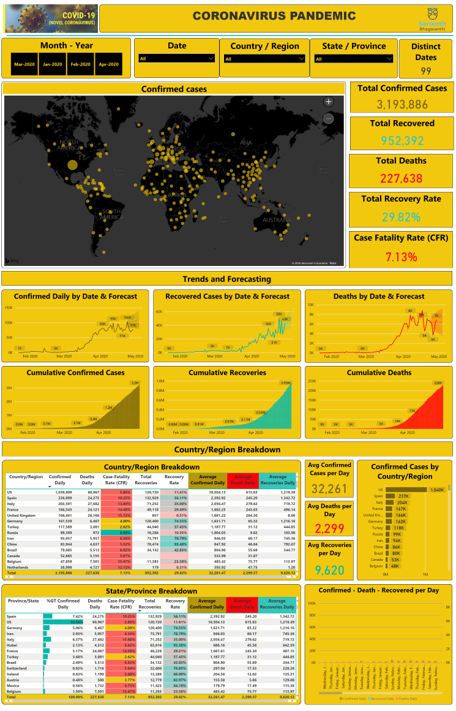

Layout of this report page (visuals, bound fields, positions):
{"tool":"powerbi","page":{"name":"COVID-19","canvas":[1490,2310],"ordinal":0},"visuals":[{"type":"basicShape","box":[6.6,34.5,1489.8,154.4],"z":0},{"type":"image","box":[0,0,321.9,111.7],"z":1000},{"type":"image","box":[1348.5,0,151.1,111.7],"z":2000},{"type":"textbox","box":[321.9,9.8,1162.9,92],"z":3000},{"type":"image","box":[1348.5,0,136.3,111.7],"z":4000},{"type":"slicer","title":"Month - Year","fields":{"Values":["CoronaVirus PowerBI Raw.Month-Year"]},"box":[0,119.3,425.9,133.2],"z":5000},{"type":"slicer","title":"Date","fields":{"Values":["CoronaVirus PowerBI Raw.Date"]},"box":[435.9,119.9,280.9,131.4],"z":6000},{"type":"slicer","title":"Country / Region","fields":{"Values":["CoronaVirus PowerBI Raw.Country/Region"]},"box":[716.8,121.5,297.3,128.1],"z":7000},{"type":"slicer","title":"State / Province","fields":{"Values":["CoronaVirus PowerBI Raw.Province/State"]},"box":[1014.1,121.5,289.1,129.8],"z":8000},{"type":"card","title":"Distinct Dates","fields":{"Values":["Count(CoronaVirus PowerBI Raw.Date)"]},"box":[1307.5,123.2,175.8,129.8],"z":9000},{"type":"map","title":"Confirmed cases","fields":{"Y":["CoronaVirus PowerBI Raw.Lat"],"X":["CoronaVirus PowerBI Raw.Long"],"Size":["Sum(CoronaVirus PowerBI Raw.Confirmed Daily)"]},"box":[0,262.8,1133.4,612.7],"z":10000},{"type":"card","title":"Total Confirmed Cases","fields":{"Values":["Sum(CoronaVirus PowerBI Raw.Confirmed Daily)"]},"box":[1146.5,262.8,341.6,101.8],"z":11000},{"type":"card","title":"Total Recovered","fields":{"Values":["Sum(CoronaVirus PowerBI Raw.Recovered Daily)"]},"box":[1146.5,377.8,341.6,110],"z":12000},{"type":"card","title":"Total Deaths","fields":{"Values":["Sum(CoronaVirus PowerBI Raw.Deaths Daily)"]},"box":[1143.2,501,341.6,111.7],"z":13000},{"type":"card","title":"Case Fatality Rate (CFR)","fields":{"Values":["CoronaVirus PowerBI Raw.CFR"]},"box":[1143.2,753.9,341.6,121.5],"z":14000},{"type":"card","title":"Total Recovery Rate","fields":{"Values":["CoronaVirus PowerBI Raw.Recovery Rate"]},"box":[1143.2,625.8,341.6,116.6],"z":15000},{"type":"textbox","box":[0,885.3,1483.2,47.6],"z":16000},{"type":"lineChart","title":"Confirmed Daily by Date & Forecast","fields":{"Category":["CoronaVirus PowerBI Raw.Date"],"Y":["Sum(CoronaVirus PowerBI Raw.Confirmed Daily)"]},"box":[0,946.2,485,239],"z":17000},{"type":"lineChart","title":"Recovered Cases by Date & Forecast","fields":{"Category":["CoronaVirus PowerBI Raw.Date"],"Y":["Sum(CoronaVirus PowerBI Raw.Recovered Daily)"]},"box":[499.4,946.2,485.6,238.6],"z":18000},{"type":"lineChart","title":"Deaths by Date & Forecast","fields":{"Category":["CoronaVirus PowerBI Raw.Date"],"Y":["Sum(CoronaVirus PowerBI Raw.Deaths Daily)"]},"box":[997.5,946.2,485.6,240],"z":19000},{"type":"columnChart","title":"Cumulative Confirmed Cases","fields":{"Y":["Sum(CoronaVirus PowerBI Raw.Confirmed)"],"Category":["CoronaVirus PowerBI Raw.Date"]},"box":[0,1197.3,485.6,238.6],"z":20000},{"type":"columnChart","title":"Cumulative Recoveries","fields":{"Category":["CoronaVirus PowerBI Raw.Date"],"Y":["Sum(CoronaVirus PowerBI Raw.Recovered)"]},"box":[499.4,1197.3,485.6,238.6],"z":21000},{"type":"columnChart","title":"Cumulative Deaths","fields":{"Category":["CoronaVirus PowerBI Raw.Date"],"Y":["Sum(CoronaVirus PowerBI Raw.Deaths)"]},"box":[998.9,1197.3,485.6,238.6],"z":22000},{"type":"textbox","box":[1.4,1445.6,1483.1,48.5],"z":23000},{"type":"tableEx","title":"Country/Region Breakdown","fields":{"Values":["CoronaVirus PowerBI Raw.Country/Region","Sum(CoronaVirus PowerBI Raw.Confirmed Daily)","Sum(CoronaVirus PowerBI Raw.Deaths Daily)","CoronaVirus PowerBI Raw.CFR","Sum(CoronaVirus PowerBI Raw.Recovered Daily)","CoronaVirus PowerBI Raw.Recovery Rate","CoronaVirus PowerBI Raw.Average Confirmed Daily","CoronaVirus PowerBI Raw.Average Death Daily","CoronaVirus PowerBI Raw.Average Recoveries Daily"]},"box":[1.6,1506.2,983.9,395.9],"z":24000},{"type":"card","title":"Avg Confirmed Cases per Day","fields":{"Values":["CoronaVirus PowerBI Raw.Average Confirmed Daily"]},"box":[998.7,1506.2,159.3,123.2],"z":25000},{"type":"card","title":"Avg Deaths per Day","fields":{"Values":["CoronaVirus PowerBI Raw.Average Death Daily"]},"box":[998.7,1640.9,159.3,115],"z":26000},{"type":"card","title":"Avg Recoveries per Day","fields":{"Values":["CoronaVirus PowerBI Raw.Average Recoveries Daily"]},"box":[998.7,1769,159.3,133],"z":27000},{"type":"barChart","title":"Confirmed Cases by Country/Region","fields":{"Category":["CoronaVirus PowerBI Raw.Country/Region"],"Y":["Sum(CoronaVirus PowerBI Raw.Confirmed Daily)"]},"box":[1169.5,1506.2,313.7,395.9],"z":28000},{"type":"tableEx","title":"State/Province Breakdown","fields":{"Values":["CoronaVirus PowerBI Raw.Province/State","Divide(Sum(CoronaVirus PowerBI Raw.Confirmed Daily), ScopedEval(Sum(CoronaVirus PowerBI Raw.Confirmed Daily), []))","Sum(CoronaVirus PowerBI Raw.Deaths Daily)","CoronaVirus PowerBI Raw.CFR","Sum(CoronaVirus PowerBI Raw.Recovered Daily)","CoronaVirus PowerBI Raw.Recovery Rate","CoronaVirus PowerBI Raw.Average Confirmed Daily","CoronaVirus PowerBI Raw.Average Death Daily","CoronaVirus PowerBI Raw.Average Recoveries Daily"]},"box":[0,1913.6,985.5,395.9],"z":29000},{"type":"lineClusteredColumnComboChart","title":"Confirmed - Death - Recovered per Day","fields":{"Category":["CoronaVirus PowerBI Raw.Date"],"Y":["Sum(CoronaVirus PowerBI Raw.Confirmed Daily)","Sum(CoronaVirus PowerBI Raw.Recovered Daily)"],"Y2":["Sum(CoronaVirus PowerBI Raw.Deaths Daily)"]},"box":[997,1913.6,486.2,395.9],"z":30000}]}

Visuals, with their boxes in screenshot pixels (x1, y1, x2, y2), scaled from the page's 1490x2310 canvas onto the 456x711 screenshot:
basicShape: x1=2, y1=11, x2=455, y2=58
image: x1=0, y1=0, x2=99, y2=34
image: x1=413, y1=0, x2=455, y2=34
textbox: x1=99, y1=3, x2=454, y2=31
image: x1=413, y1=0, x2=454, y2=34
"Month - Year" slicer: x1=0, y1=37, x2=130, y2=78
"Date" slicer: x1=133, y1=37, x2=219, y2=77
"Country / Region" slicer: x1=219, y1=37, x2=310, y2=77
"State / Province" slicer: x1=310, y1=37, x2=399, y2=77
"Distinct Dates" card: x1=400, y1=38, x2=454, y2=78
"Confirmed cases" map: x1=0, y1=81, x2=347, y2=269
"Total Confirmed Cases" card: x1=351, y1=81, x2=455, y2=112
"Total Recovered" card: x1=351, y1=116, x2=455, y2=150
"Total Deaths" card: x1=350, y1=154, x2=454, y2=189
"Case Fatality Rate (CFR)" card: x1=350, y1=232, x2=454, y2=269
"Total Recovery Rate" card: x1=350, y1=193, x2=454, y2=229
textbox: x1=0, y1=272, x2=454, y2=287
"Confirmed Daily by Date & Forecast" lineChart: x1=0, y1=291, x2=148, y2=365
"Recovered Cases by Date & Forecast" lineChart: x1=153, y1=291, x2=301, y2=365
"Deaths by Date & Forecast" lineChart: x1=305, y1=291, x2=454, y2=365
"Cumulative Confirmed Cases" columnChart: x1=0, y1=369, x2=149, y2=442
"Cumulative Recoveries" columnChart: x1=153, y1=369, x2=301, y2=442
"Cumulative Deaths" columnChart: x1=306, y1=369, x2=454, y2=442
textbox: x1=0, y1=445, x2=454, y2=460
"Country/Region Breakdown" tableEx: x1=0, y1=464, x2=302, y2=585
"Avg Confirmed Cases per Day" card: x1=306, y1=464, x2=354, y2=502
"Avg Deaths per Day" card: x1=306, y1=505, x2=354, y2=540
"Avg Recoveries per Day" card: x1=306, y1=544, x2=354, y2=585
"Confirmed Cases by Country/Region" barChart: x1=358, y1=464, x2=454, y2=585
"State/Province Breakdown" tableEx: x1=0, y1=589, x2=302, y2=710
"Confirmed - Death - Recovered per Day" lineClusteredColumnComboChart: x1=305, y1=589, x2=454, y2=710
